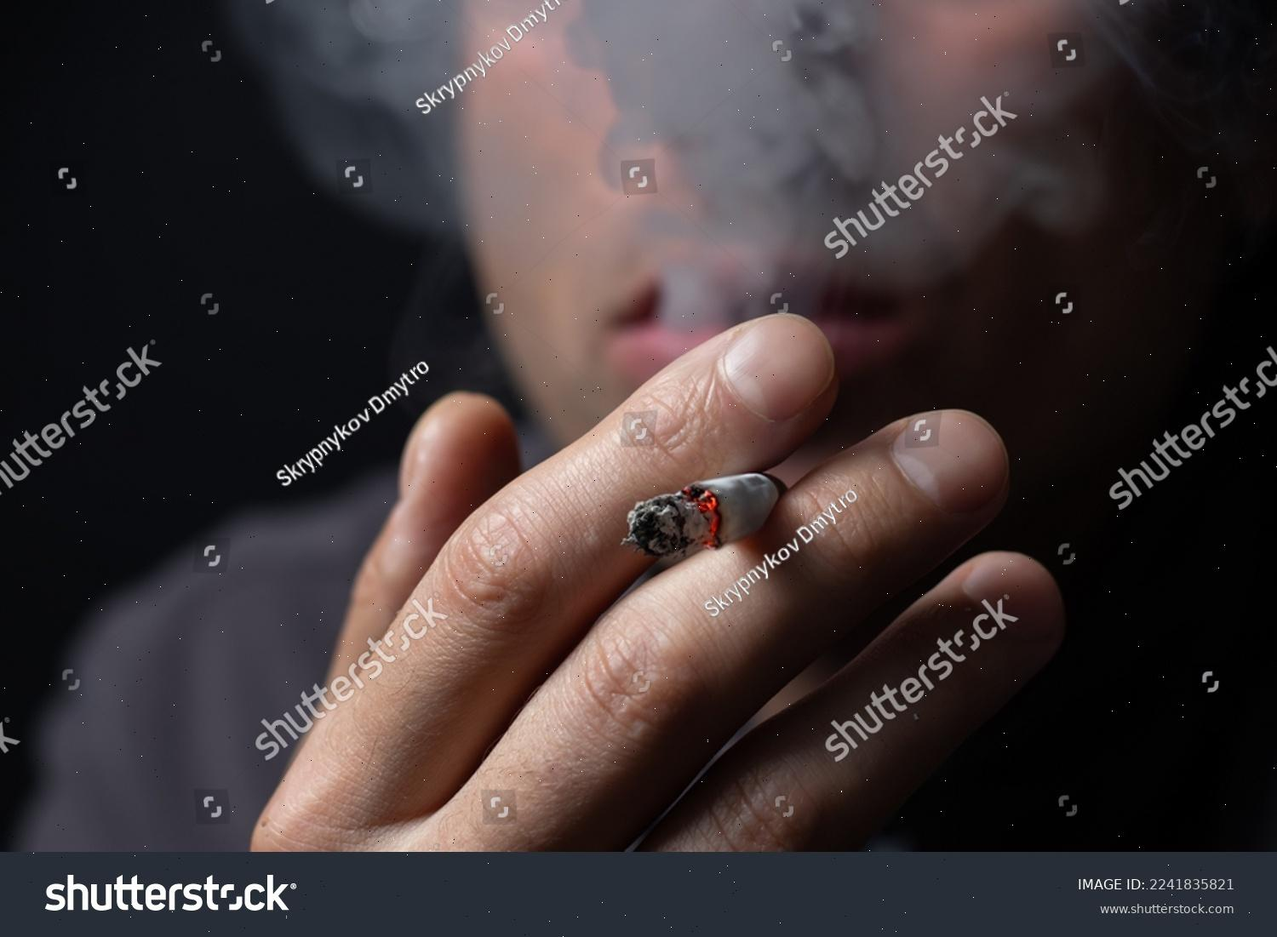cigarette: (621, 473, 782, 559)
